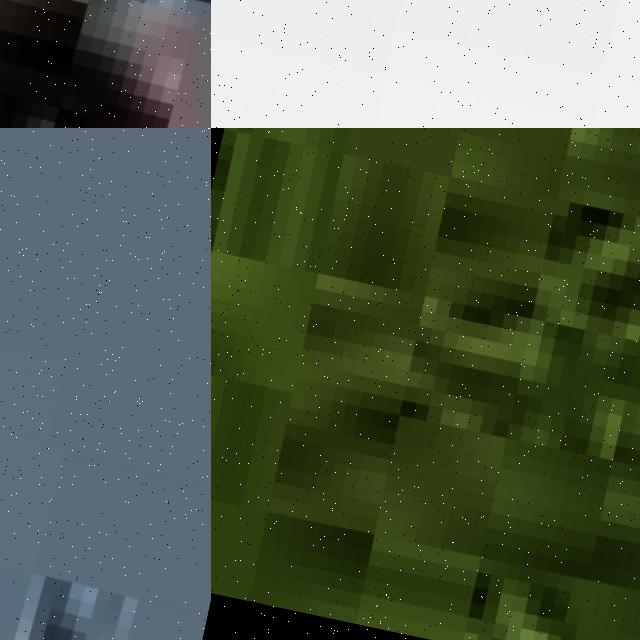drone: (0, 347, 211, 640), (0, 0, 211, 128)
